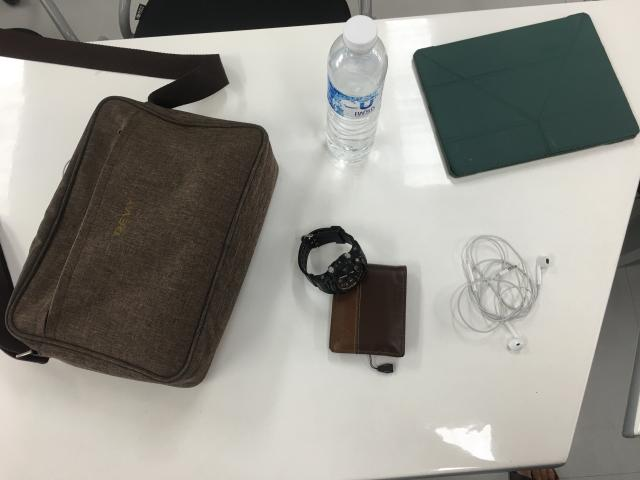Wallet: (330, 265, 410, 361)
Watch: (295, 227, 367, 297)
bottle: (324, 13, 389, 165)
wire: (456, 237, 553, 352)
